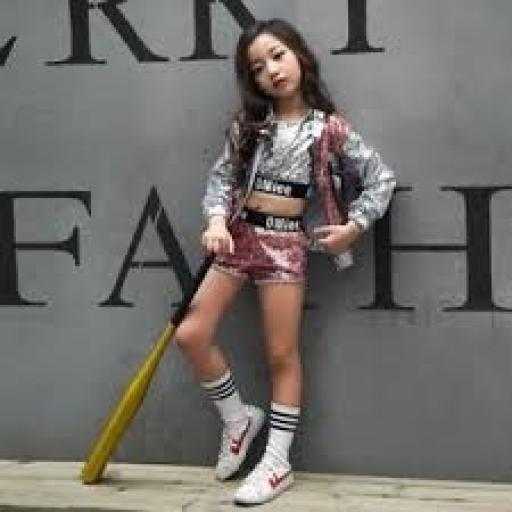dancing: (168, 16, 400, 510)
